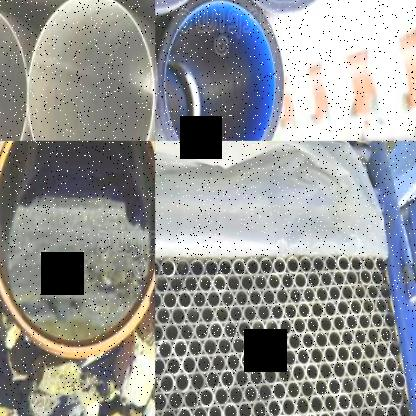pipe: (0, 141, 155, 353), (24, 0, 155, 141), (156, 0, 284, 141), (0, 0, 30, 141), (222, 0, 347, 14), (167, 390, 184, 412), (158, 372, 175, 394), (172, 338, 189, 360), (189, 371, 206, 392), (181, 355, 198, 376), (163, 323, 180, 344), (155, 306, 172, 327), (183, 388, 199, 410), (214, 386, 230, 408), (243, 383, 259, 405), (257, 382, 273, 404), (174, 372, 190, 394), (234, 367, 250, 389), (211, 352, 227, 374), (198, 388, 215, 408), (189, 258, 206, 278), (228, 385, 244, 406), (179, 322, 195, 343), (323, 392, 338, 414), (327, 376, 342, 398), (205, 369, 220, 391), (220, 368, 235, 390), (249, 366, 264, 388), (240, 350, 255, 372), (262, 366, 278, 386), (166, 356, 182, 376), (157, 340, 173, 360), (202, 337, 218, 357), (185, 306, 201, 326), (200, 306, 216, 326), (177, 290, 193, 310), (162, 290, 178, 310), (175, 258, 191, 278), (245, 258, 261, 278), (160, 258, 176, 278), (217, 258, 233, 278), (232, 257, 248, 277), (272, 256, 288, 276), (350, 390, 365, 411), (389, 386, 404, 407), (196, 354, 211, 375), (188, 338, 203, 359), (273, 332, 288, 353), (283, 301, 298, 322), (169, 274, 184, 295), (155, 273, 170, 294), (310, 394, 324, 416), (266, 397, 282, 416), (197, 274, 213, 293), (281, 396, 296, 416), (295, 396, 310, 416), (272, 381, 287, 401), (286, 380, 301, 400), (300, 379, 315, 399), (314, 378, 329, 398), (341, 375, 356, 395), (354, 374, 369, 394), (367, 373, 382, 393), (277, 364, 292, 384), (305, 362, 320, 382), (226, 352, 241, 372), (254, 350, 269, 370), (268, 350, 283, 370), (282, 348, 297, 368), (217, 336, 232, 356), (314, 330, 329, 350), (194, 322, 209, 342), (209, 320, 224, 340), (223, 320, 238, 340), (237, 320, 252, 340), (171, 306, 186, 326), (192, 290, 207, 310), (275, 286, 290, 306), (353, 282, 368, 302), (293, 270, 308, 290), (204, 258, 219, 278), (259, 256, 274, 276), (286, 255, 301, 275), (364, 389, 378, 410), (319, 361, 333, 382), (332, 360, 346, 381), (297, 301, 312, 320), (377, 388, 391, 408), (291, 363, 305, 383), (385, 355, 399, 375), (296, 347, 310, 367), (310, 346, 324, 366), (323, 345, 337, 365), (232, 336, 246, 356), (246, 334, 260, 354), (260, 334, 274, 354), (288, 332, 302, 352), (341, 328, 355, 348), (251, 318, 265, 338), (332, 313, 346, 333), (215, 305, 229, 325), (229, 304, 243, 324), (221, 289, 235, 309), (235, 288, 249, 308), (262, 287, 276, 307), (184, 274, 198, 294), (213, 274, 227, 294), (254, 272, 268, 292), (280, 271, 294, 291), (354, 327, 367, 348), (251, 399, 267, 416), (393, 371, 408, 389), (278, 318, 293, 336), (243, 304, 258, 322), (256, 304, 271, 322), (270, 303, 285, 321), (206, 290, 221, 308), (288, 287, 303, 305), (226, 274, 241, 292), (240, 274, 255, 292), (306, 271, 321, 289), (366, 326, 380, 345), (341, 283, 355, 302), (366, 282, 380, 301), (155, 390, 167, 412), (381, 372, 394, 392), (359, 358, 372, 378), (372, 356, 385, 376), (337, 344, 350, 364), (350, 342, 363, 362), (376, 340, 389, 360), (328, 329, 341, 349), (380, 325, 393, 345), (293, 317, 306, 337), (306, 314, 319, 334), (362, 296, 375, 316), (249, 288, 262, 308), (236, 400, 252, 416), (336, 299, 351, 316), (323, 255, 338, 272), (363, 342, 377, 360), (265, 319, 279, 337), (310, 301, 324, 319), (302, 286, 316, 304), (267, 272, 281, 290), (345, 313, 358, 332), (357, 312, 370, 331), (155, 356, 166, 378), (338, 392, 350, 412), (346, 359, 358, 379), (302, 330, 314, 350), (320, 314, 332, 334), (349, 298, 363, 315), (311, 256, 325, 273), (299, 255, 313, 272), (337, 255, 351, 272), (371, 312, 384, 330), (328, 285, 341, 303), (320, 270, 333, 288), (345, 269, 358, 287), (350, 254, 363, 272), (362, 254, 375, 272), (384, 311, 396, 330), (316, 285, 328, 304), (222, 401, 237, 416), (376, 297, 388, 315), (372, 268, 384, 286), (360, 268, 372, 286), (374, 255, 386, 273), (207, 403, 223, 416), (333, 270, 346, 286), (388, 341, 400, 358), (324, 300, 336, 317), (379, 283, 391, 300), (155, 323, 164, 344), (398, 403, 412, 416), (385, 404, 400, 416), (191, 405, 207, 416), (372, 404, 386, 416), (176, 406, 192, 416), (160, 407, 176, 416), (359, 406, 373, 416), (155, 290, 162, 310), (345, 407, 360, 416), (332, 408, 347, 416), (155, 258, 161, 278), (318, 409, 332, 416), (303, 412, 319, 416), (289, 412, 304, 416), (275, 414, 291, 416)
